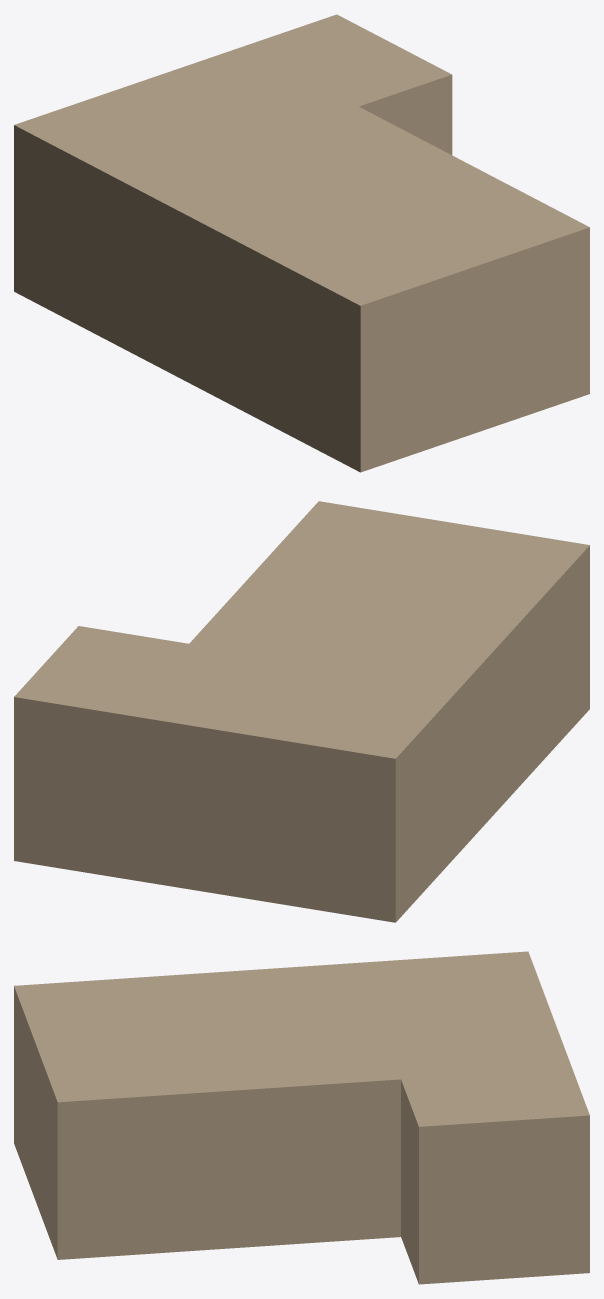
The model's file is bld_106466781.dae.
3 renders of one model, top to bottom at view 1: azimuth 30°, elevation 25°; view 2: azimuth 150°, elevation 25°; view 3: azimuth 270°, elevation 25°, orthographic. The views are drawn at different scales.
Visible parts, largest first — view 1: bld_106466781; view 2: bld_106466781; view 3: bld_106466781.
Part boxes in pixels (x1,y1,x2,y2): bld_106466781: [14, 14, 589, 472]; bld_106466781: [14, 501, 589, 922]; bld_106466781: [14, 951, 589, 1284].
Size of the model in its own units: 19.1 by 26.5 by 8.
